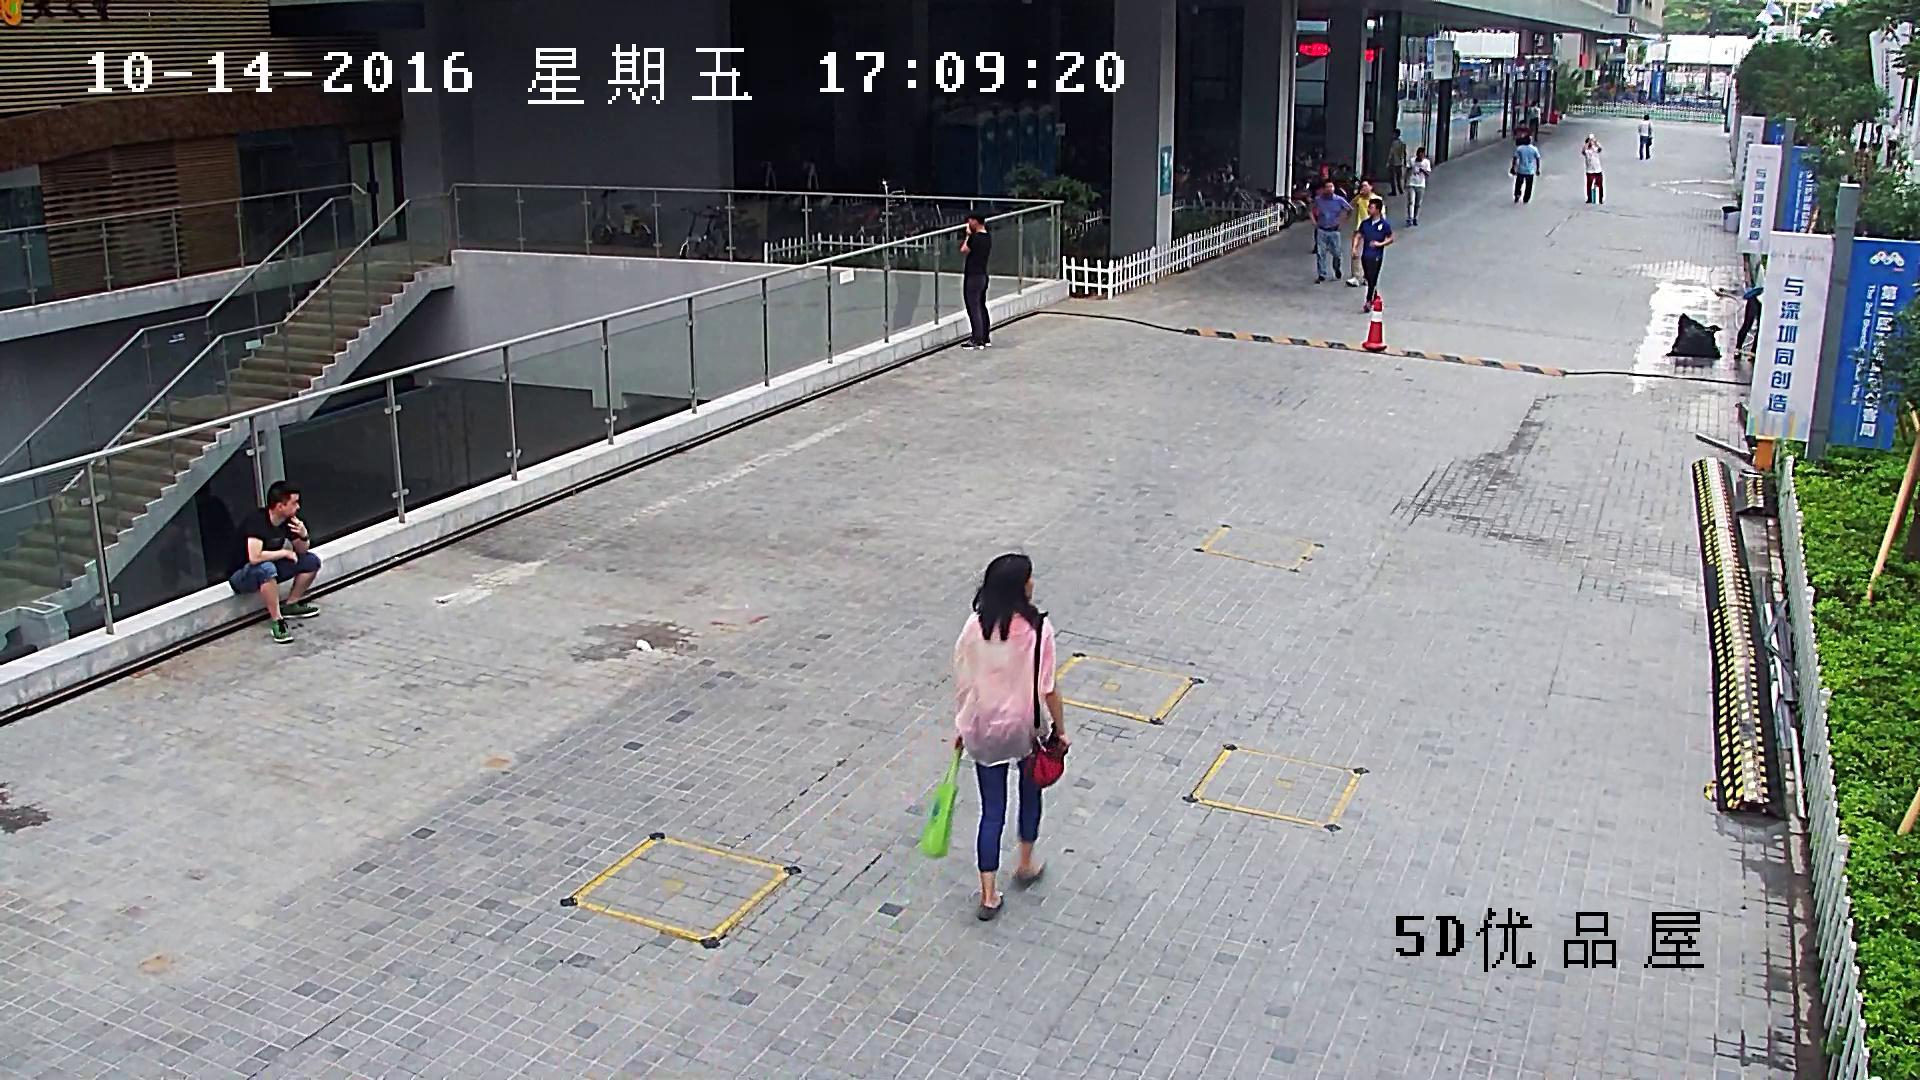person: (923, 553, 1069, 921), (228, 479, 320, 642), (157, 465, 236, 593), (1350, 199, 1393, 312), (959, 208, 991, 349), (1308, 178, 1351, 283), (1345, 177, 1386, 287), (889, 251, 924, 333), (1733, 287, 1764, 360), (1405, 147, 1432, 227), (1510, 136, 1540, 203), (1581, 133, 1604, 203), (1385, 127, 1406, 196), (1637, 114, 1654, 160), (1854, 140, 1873, 177), (1468, 96, 1481, 142), (1886, 125, 1899, 167), (1869, 125, 1882, 164), (1528, 100, 1540, 141), (1513, 119, 1530, 146)
